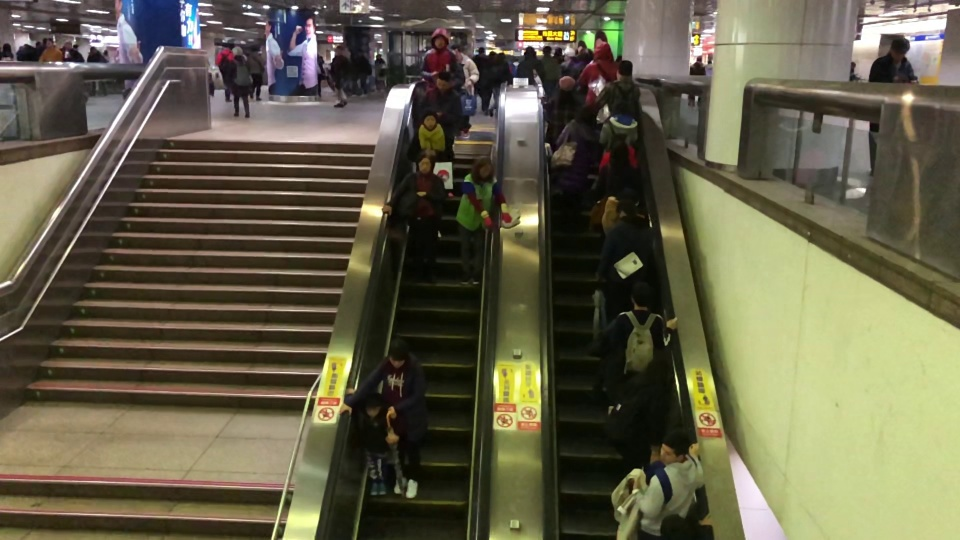person_head: (658, 430, 689, 465), (659, 512, 690, 540), (387, 337, 409, 367), (414, 147, 437, 175), (644, 359, 673, 380), (888, 35, 911, 61), (630, 281, 652, 306), (607, 139, 629, 163), (474, 155, 495, 179), (364, 391, 382, 416), (592, 41, 613, 61), (431, 27, 450, 48), (574, 103, 593, 124), (615, 60, 634, 80), (614, 201, 636, 218), (421, 108, 438, 128), (435, 70, 451, 91), (556, 75, 575, 92), (611, 100, 631, 115), (617, 187, 635, 199), (450, 43, 462, 58), (524, 46, 535, 59), (231, 46, 244, 56), (334, 45, 344, 56), (63, 39, 73, 49), (45, 37, 54, 48), (3, 41, 12, 51), (542, 46, 551, 56), (496, 52, 505, 61), (574, 45, 584, 53), (849, 60, 855, 71), (478, 45, 485, 54), (89, 46, 96, 53), (221, 41, 228, 48), (251, 46, 257, 53), (696, 55, 702, 62), (376, 52, 381, 57), (707, 59, 712, 64)
person_vbox: (338, 337, 428, 500), (381, 147, 447, 284), (602, 358, 678, 465), (631, 430, 705, 539), (454, 154, 512, 287), (865, 35, 917, 176), (602, 281, 677, 372), (406, 107, 453, 238), (414, 69, 462, 197), (549, 103, 594, 232), (596, 202, 654, 301), (345, 385, 390, 496), (419, 27, 465, 95), (449, 43, 480, 139), (541, 75, 581, 145), (595, 139, 639, 201), (577, 40, 618, 105), (594, 60, 642, 115), (600, 186, 647, 239), (598, 99, 638, 151), (226, 45, 253, 119), (329, 44, 352, 109), (516, 45, 546, 92), (489, 51, 510, 111), (86, 46, 109, 96), (246, 45, 266, 102), (471, 45, 488, 111), (215, 41, 233, 103), (688, 56, 706, 109), (541, 45, 560, 90), (567, 45, 589, 79), (38, 36, 63, 62), (316, 52, 328, 100), (374, 52, 387, 94), (63, 39, 85, 62), (848, 59, 862, 81), (1, 41, 15, 60), (706, 59, 713, 74)
